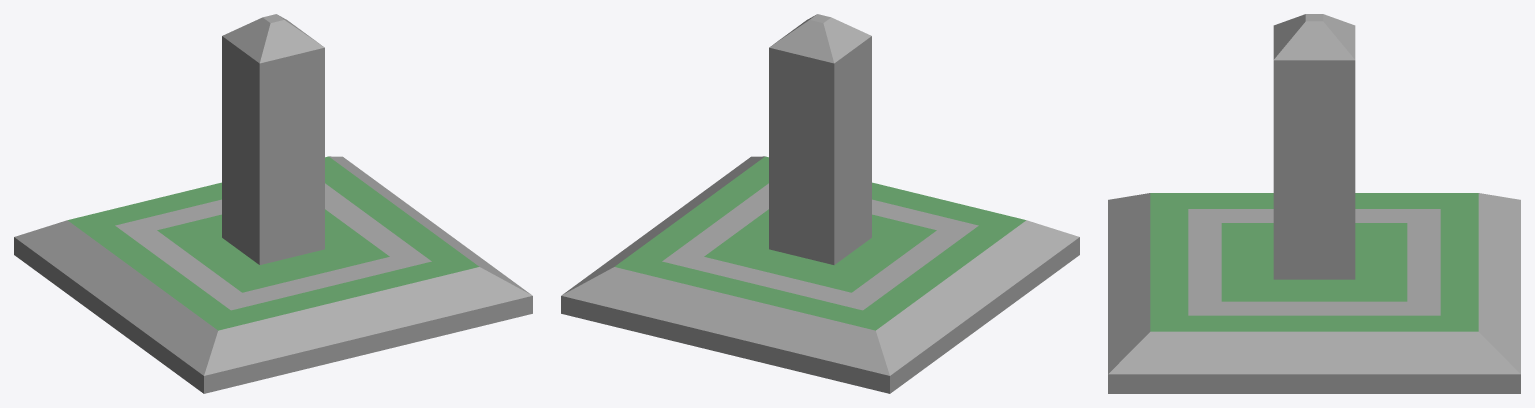
Rendered from communityCenter.fbx.
The picture shows the model from 3 angles, left to right: view 1: azimuth 30°, elevation 25°; view 2: azimuth 150°, elevation 25°; view 3: azimuth 270°, elevation 25°; orthographic projection. The views are drawn at different scales.
Parts seen in each view (by area): view 1: community_center; view 2: community_center; view 3: community_center.
Part boxes in pixels (x1,y1,x2,y2): community_center: (14, 14, 532, 393); community_center: (561, 14, 1079, 393); community_center: (1108, 14, 1520, 393).
Size of the model in its own units: 0.8 by 0.6178 by 0.8.
